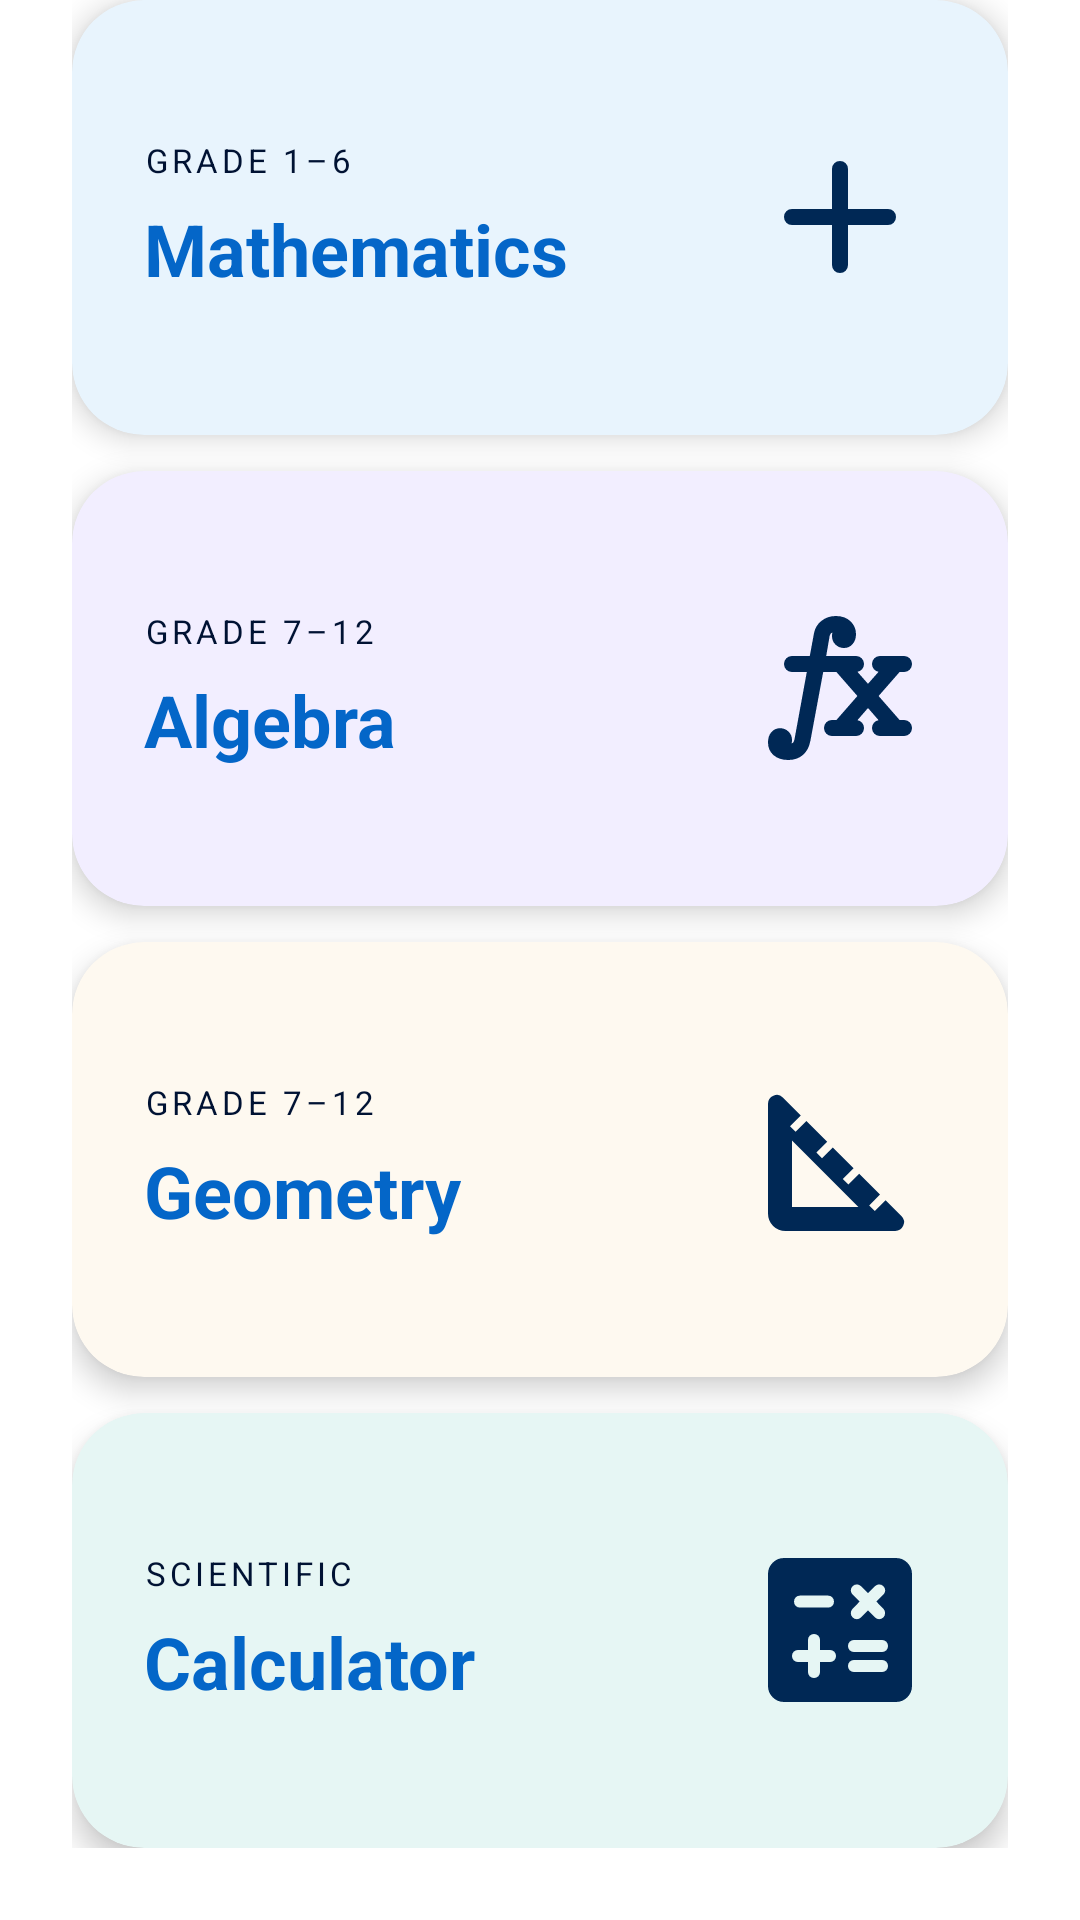

Screen size 1080w x 1920h. Icon name, then its center in pixels as [x,y]:
algebra: [840,688]
calculator: [840,1630]
geometry: [836,1162]
math: [840,217]
